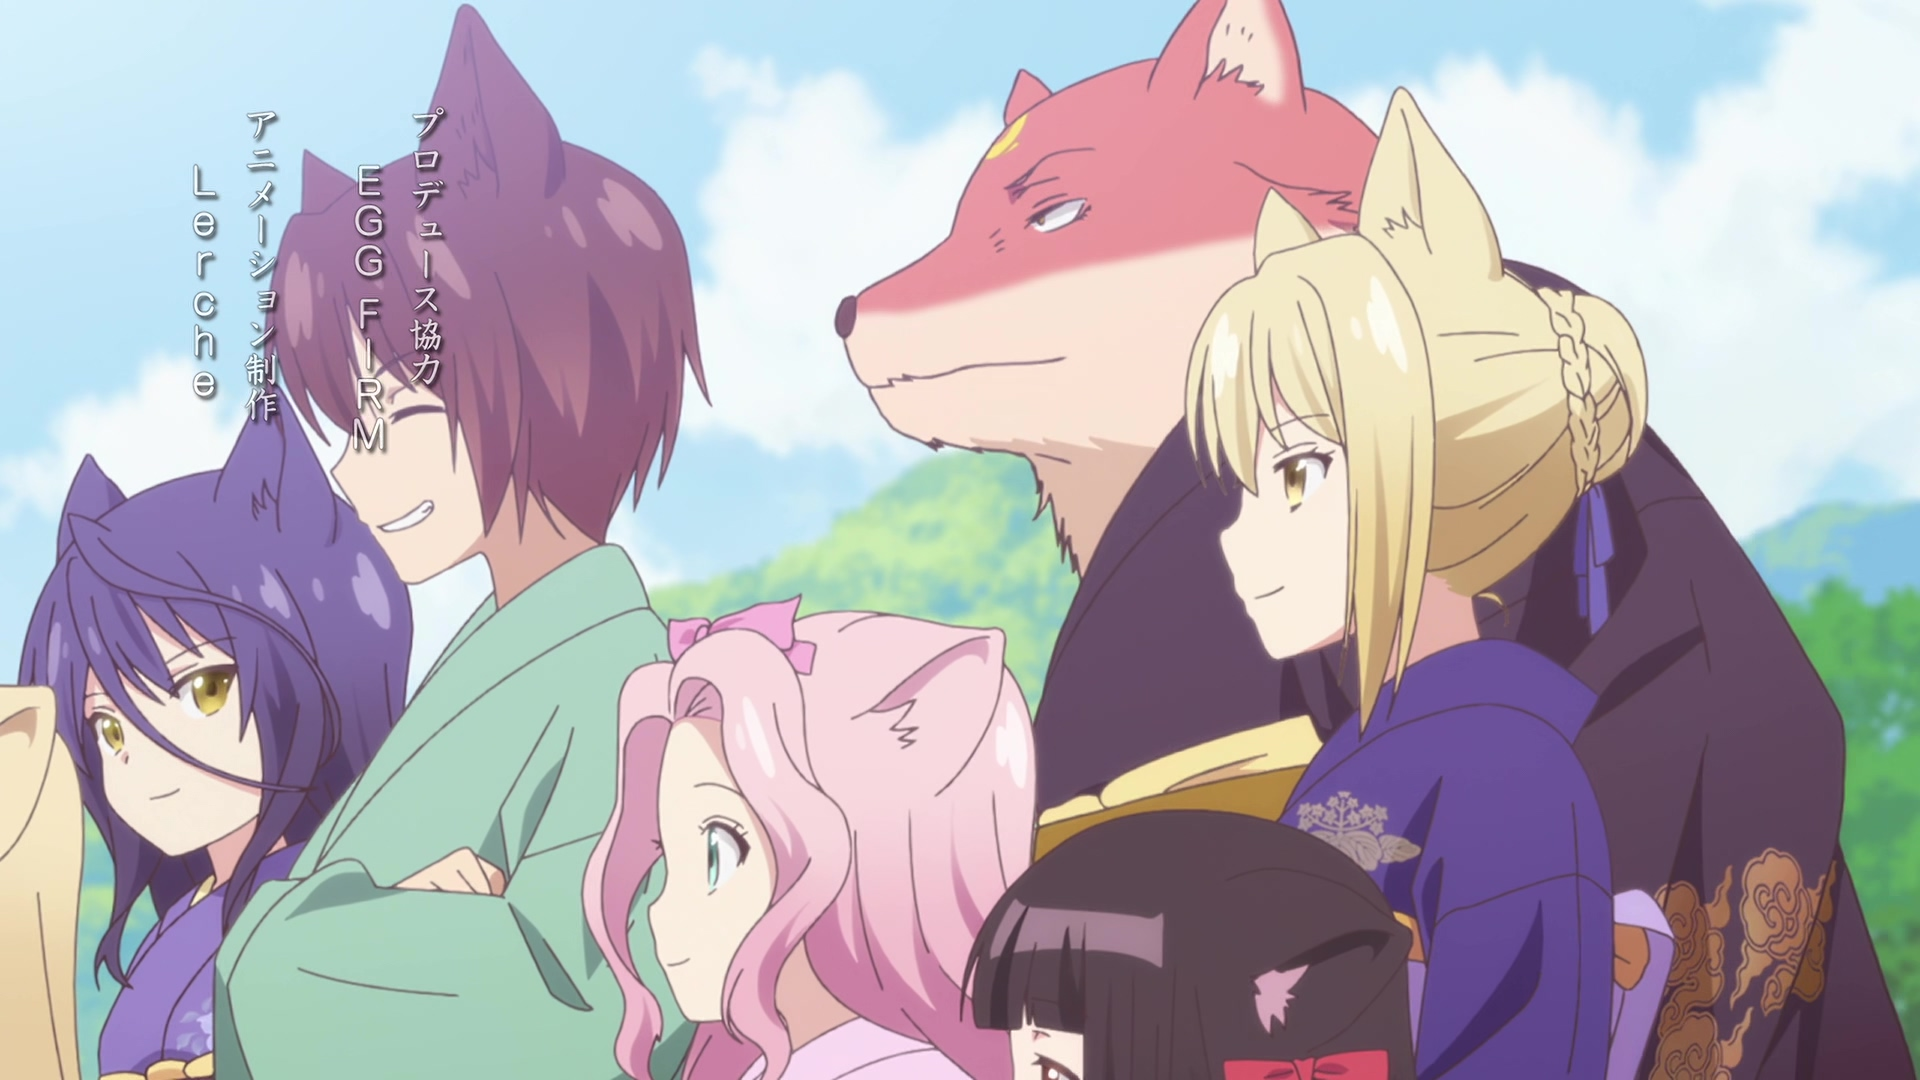不计算: (1, 684, 84, 1080)
枣: (215, 1, 712, 1080)
桐: (1185, 84, 1677, 1080)
椿: (833, 1, 1912, 1080)
樱: (960, 808, 1418, 1080)
皋: (17, 382, 414, 1080)
莲: (582, 593, 1038, 1080)
